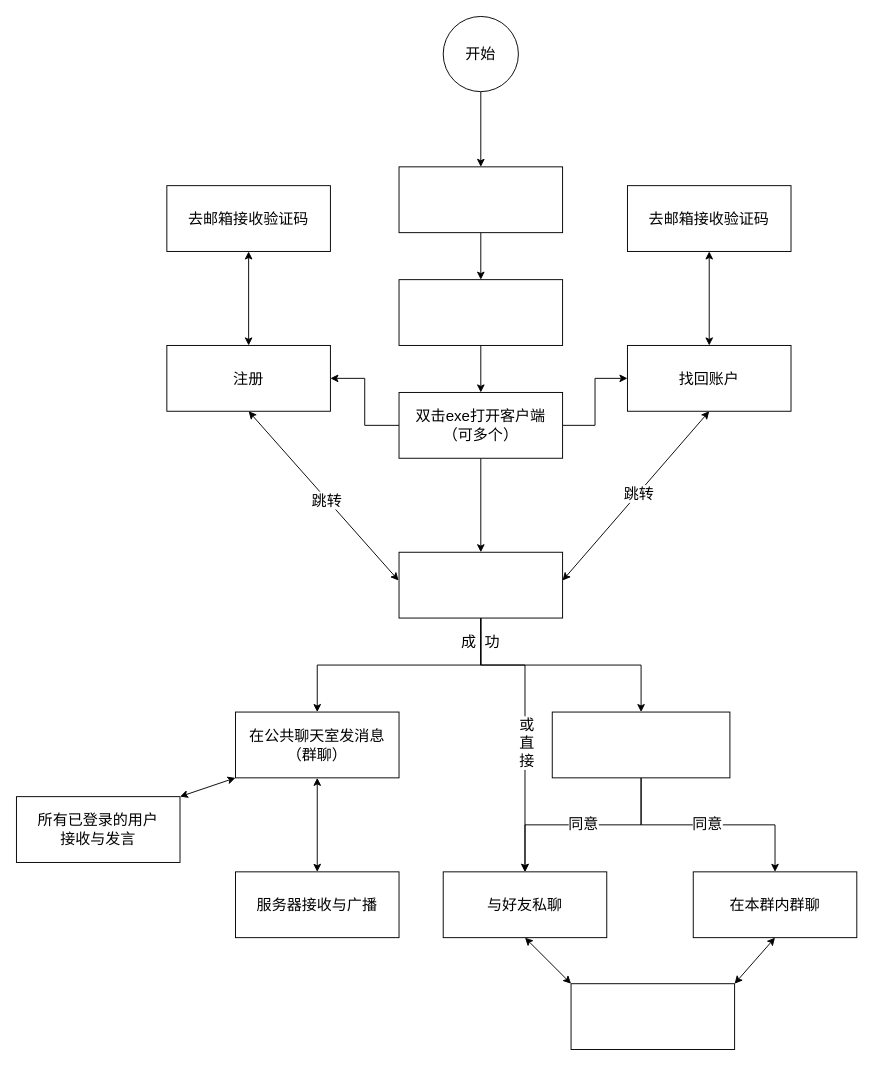
The diagram is 873 pixels wide and 1066 high, and some of its shapes have lost their labels. The centre of each missing label's shape, as x and y in pixels:
"双击exe打开服务器端" goes at (x=480, y=199).
"在线搜索 申请添加好友或加入群聊" goes at (x=640, y=744).
"好友或群成员接收 与回复" goes at (x=652, y=1016).
"开启监听" goes at (x=480, y=312).
"登录" goes at (x=480, y=584).
